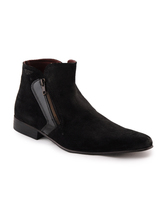shoes: (12, 59, 159, 158)
